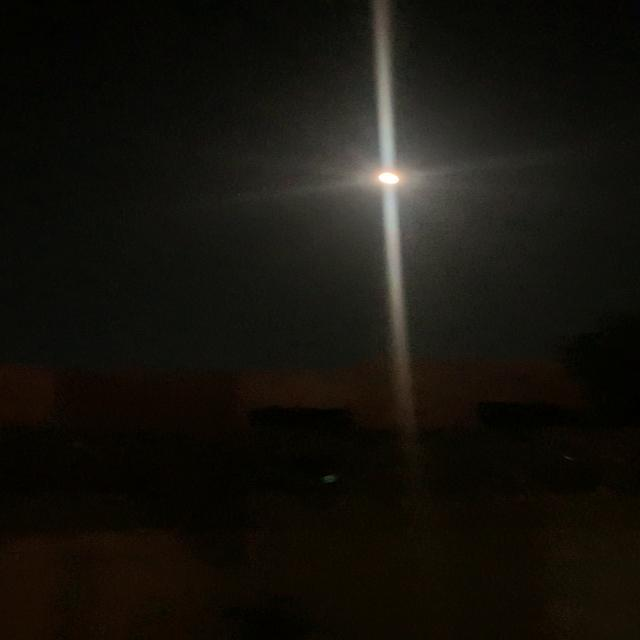moon: (356, 164, 416, 196)
